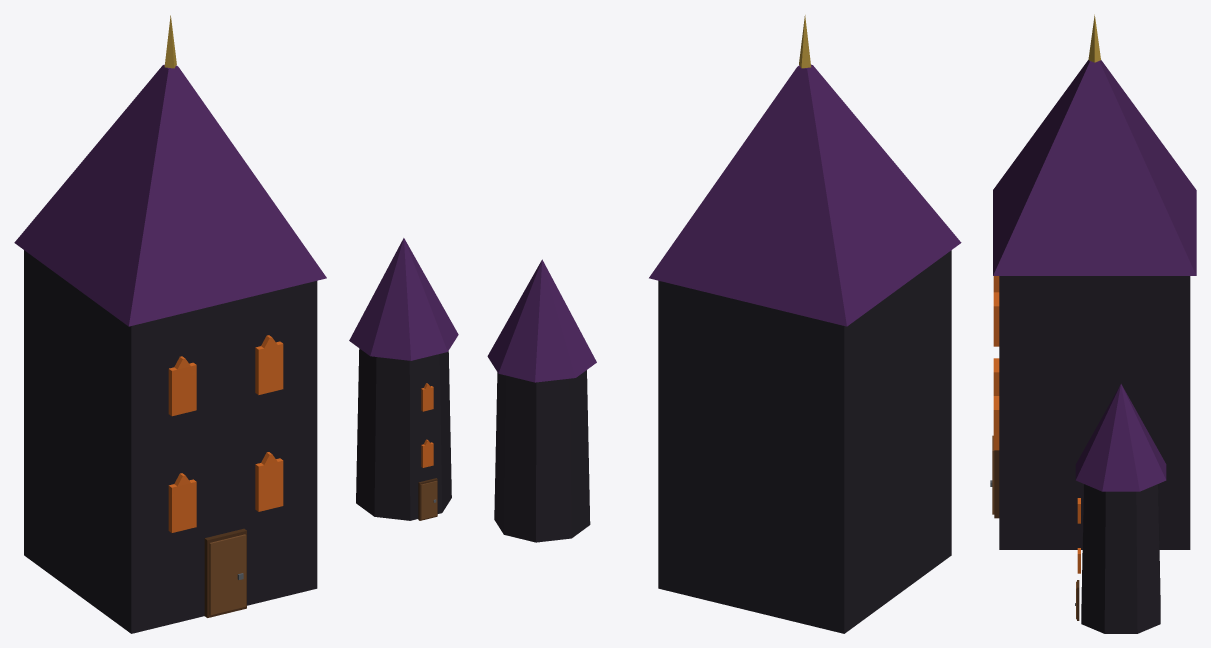
Rendered from demon_hall_broken.glb.
3 renders of one model, left to right at view 1: azimuth 30°, elevation 25°; view 2: azimuth 150°, elevation 25°; view 3: azimuth 270°, elevation 25°, orthographic. The views are drawn at different scales.
Parts seen in each view (by area): view 1: demon_hall_piece0, demon_hall_piece13, demon_hall_piece2, demon_hall_piece9, demon_hall_piece3, demon_hall_piece6, demon_hall_piece10, demon_hall_piece11, demon_hall_piece7, demon_hall_piece5; view 2: demon_hall_piece2, demon_hall_piece3, demon_hall_piece7, demon_hall_piece6, demon_hall_piece13, demon_hall_piece8, demon_hall_piece4, demon_hall_piece1, demon_hall_piece5, demon_hall_piece10, demon_hall_piece9; view 3: demon_hall_piece0, demon_hall_piece7, demon_hall_piece13, demon_hall_piece1, demon_hall_piece9, demon_hall_piece5, demon_hall_piece2, demon_hall_piece11, demon_hall_piece4, demon_hall_piece6.
Part boxes in pixels (box(x1,y1,x2,y2)): demon_hall_piece0: box(170, 331, 317, 611); demon_hall_piece13: box(349, 246, 458, 520); demon_hall_piece2: box(14, 122, 220, 299); demon_hall_piece9: box(114, 211, 302, 464); demon_hall_piece3: box(24, 264, 152, 562); demon_hall_piece6: box(34, 327, 126, 627); demon_hall_piece10: box(123, 375, 228, 633); demon_hall_piece11: box(164, 244, 326, 479); demon_hall_piece7: box(59, 15, 222, 189); demon_hall_piece5: box(209, 128, 408, 274); demon_hall_piece2: box(658, 102, 925, 503); demon_hall_piece3: box(699, 200, 946, 633); demon_hall_piece7: box(649, 15, 843, 330); demon_hall_piece6: box(658, 272, 946, 626); demon_hall_piece13: box(487, 273, 596, 531); demon_hall_piece8: box(663, 474, 751, 574); demon_hall_piece4: box(502, 460, 580, 542); demon_hall_piece1: box(498, 338, 675, 558); demon_hall_piece5: box(500, 259, 554, 366); demon_hall_piece10: box(943, 303, 951, 560); demon_hall_piece9: box(938, 216, 961, 321); demon_hall_piece0: box(990, 317, 1094, 549); demon_hall_piece7: box(1061, 14, 1196, 320); demon_hall_piece13: box(1075, 390, 1165, 633); demon_hall_piece1: box(1066, 186, 1190, 513); demon_hall_piece9: box(993, 170, 1108, 408); demon_hall_piece5: box(1017, 118, 1163, 475); demon_hall_piece2: box(1010, 85, 1196, 420); demon_hall_piece11: box(993, 241, 1049, 330); demon_hall_piece4: box(1048, 366, 1160, 625); demon_hall_piece6: box(1118, 383, 1190, 549).
Size of the model in its own units: 4.58 by 6.24 by 2.35.
